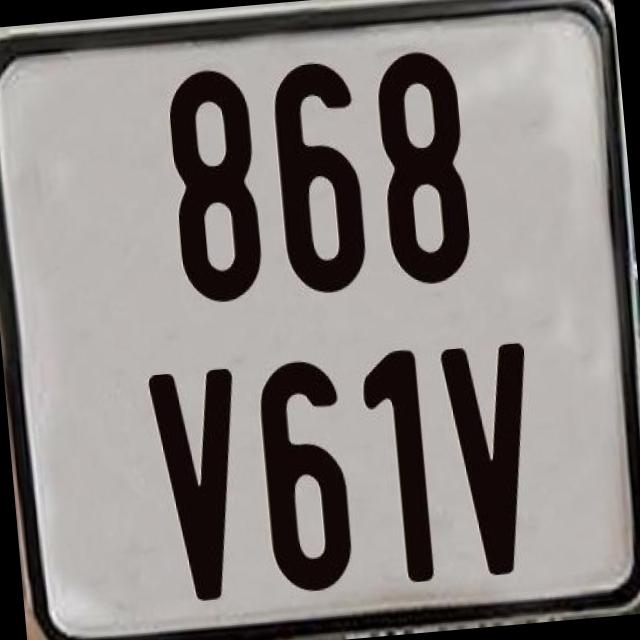1: (357, 344, 434, 590)
6: (252, 357, 358, 596), (266, 56, 370, 296)
8: (373, 46, 480, 286), (163, 66, 269, 308)
V: (142, 364, 254, 606), (438, 341, 542, 578)
